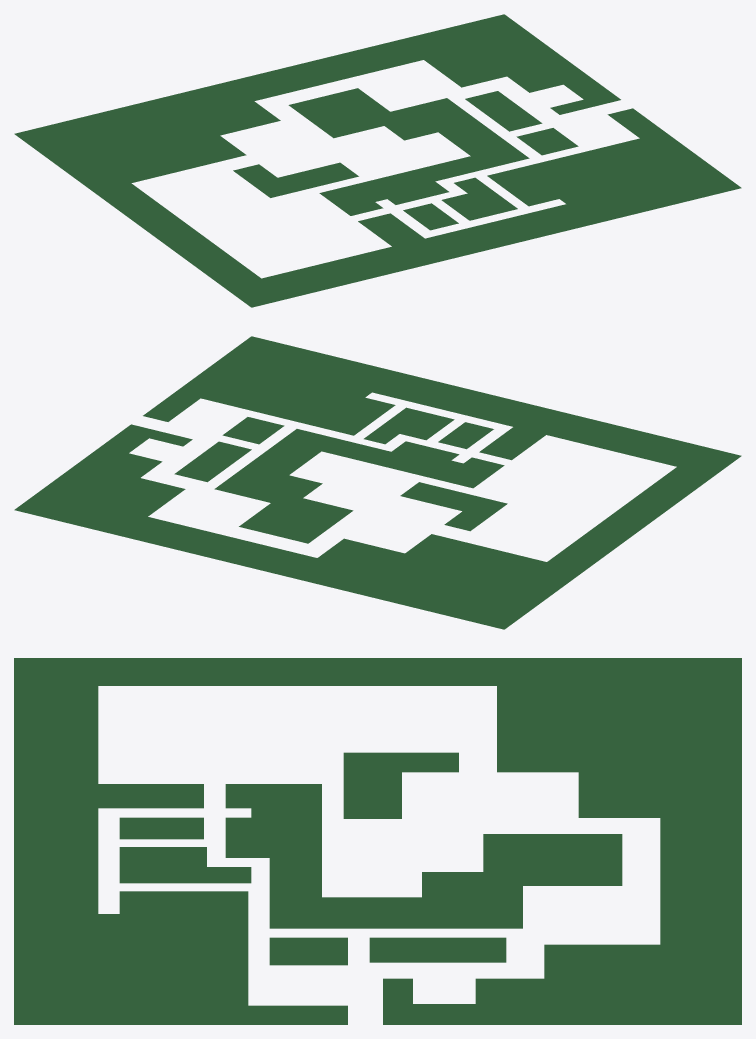
Rendered from tanah hijau.fbx.
The picture shows the model from 3 angles, top to bottom: view 1: azimuth 30°, elevation 25°; view 2: azimuth 150°, elevation 25°; view 3: azimuth 270°, elevation 25°; orthographic projection. The views are drawn at different scales.
Parts seen in each view (by area): view 1: Plane.205; view 2: Plane.205; view 3: Plane.205.
Part boxes in pixels (x1=…): Plane.205: x1=14, y1=14, x2=741, y2=307; Plane.205: x1=14, y1=336, x2=741, y2=629; Plane.205: x1=14, y1=658, x2=741, y2=1024.
Bounding box in the file's own units: 1468 × 0.000201 × 1232.
